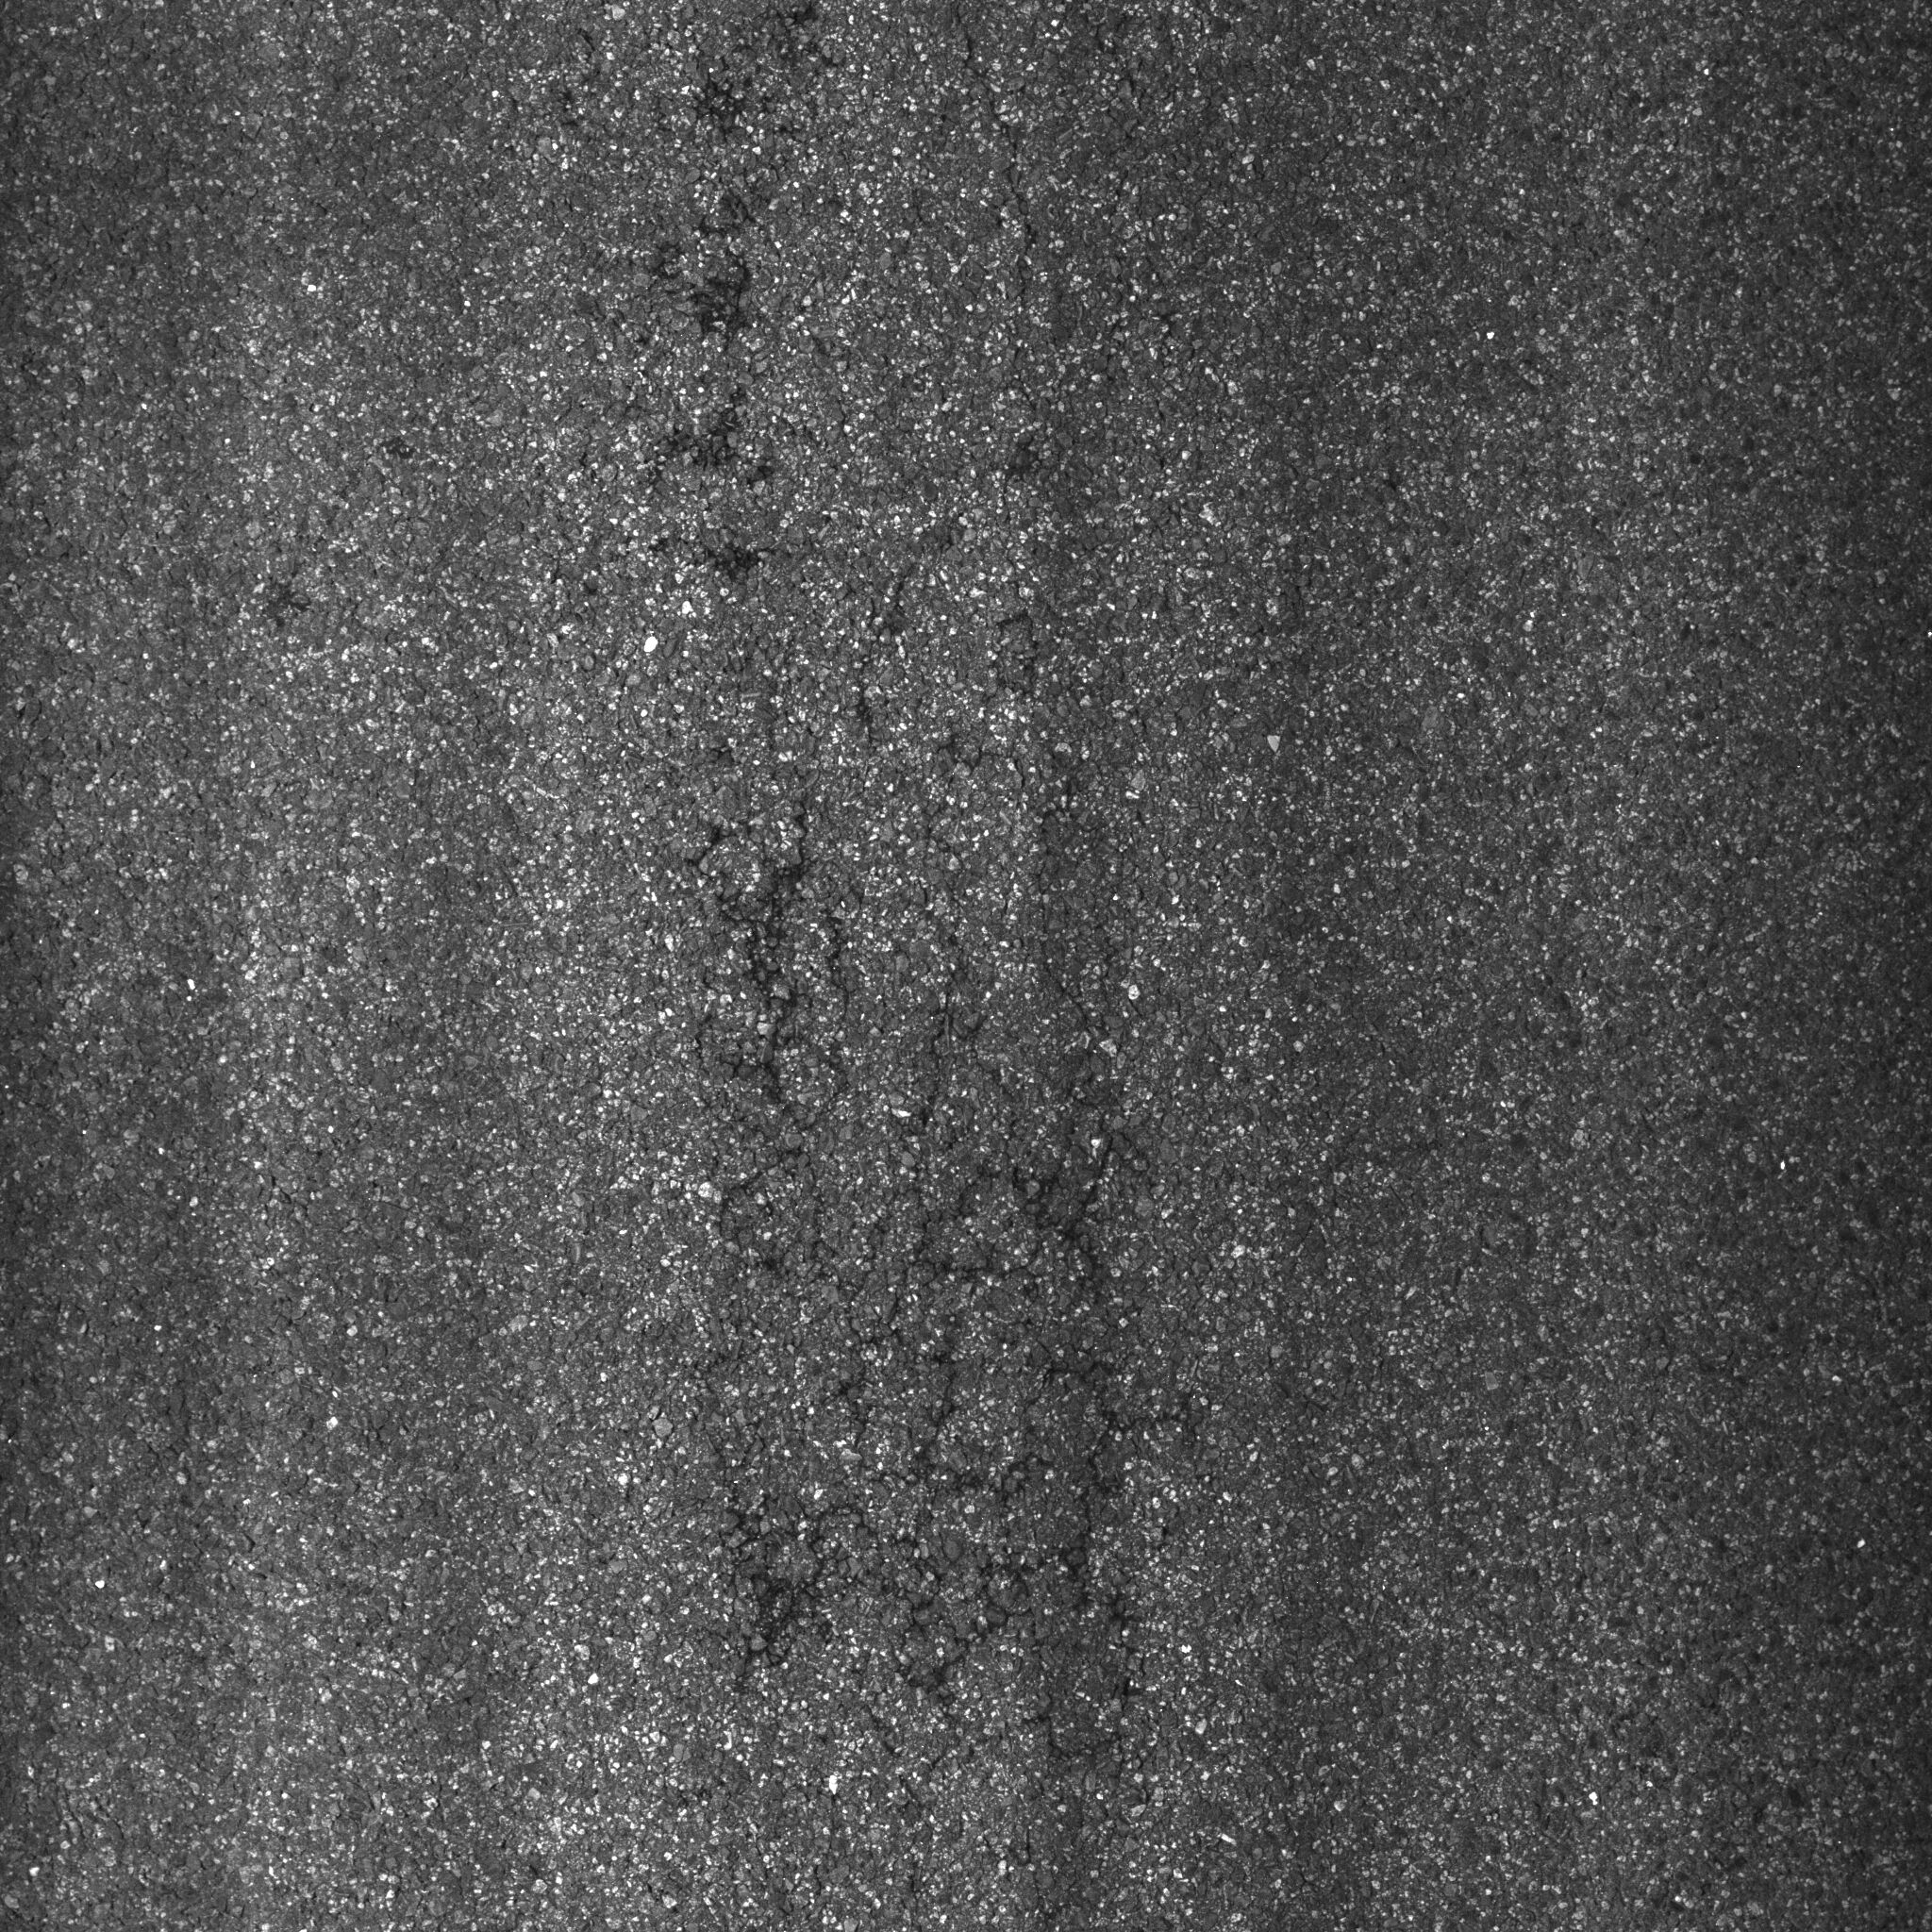alligator: (593, 522, 1297, 1783)
